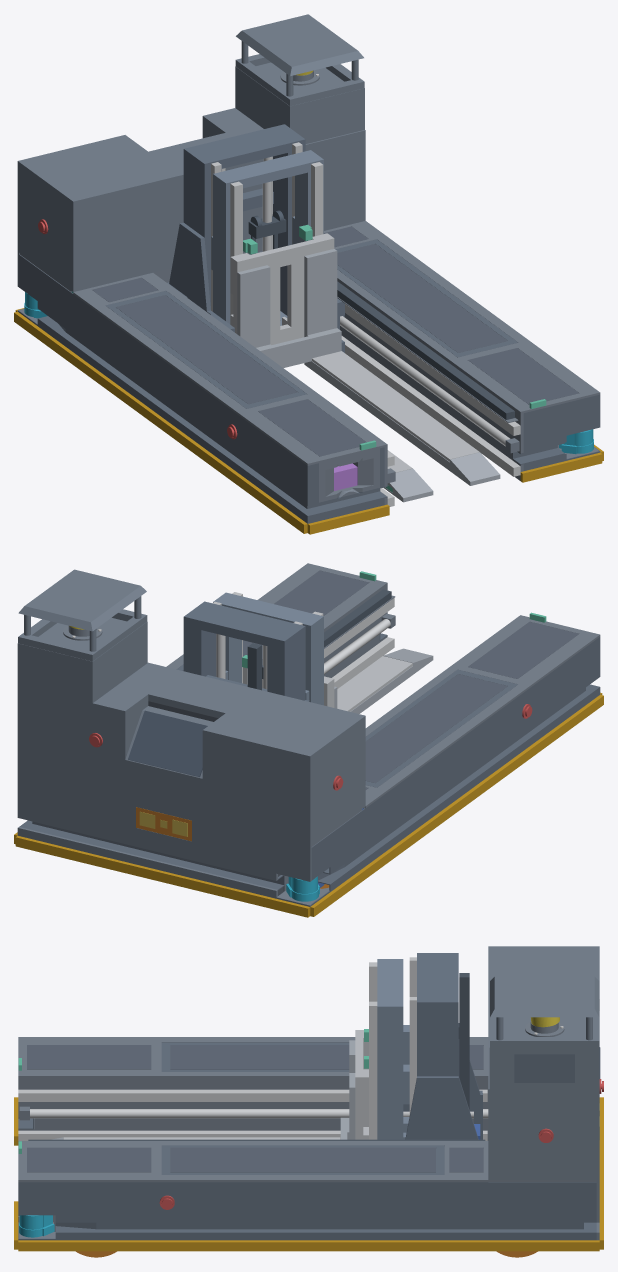
The model's file is hd30_1500kg_fork.glb.
The picture shows the model from 3 angles, top to bottom: view 1: azimuth 30°, elevation 25°; view 2: azimuth 150°, elevation 25°; view 3: azimuth 270°, elevation 25°; orthographic projection.
Parts seen in each view (by area): view 1: rear_tower_front_skin_4t, chassis_skin_R_up, pod_top_R, pod_friction_pad_M_R, pod_friction_pad_M_L, pod_top_L, tower_deck_R_6t, tower_upper_shroud_L, fork_tine_L, rear_upper_cowl_R, mast_fork_carriage, fork_weigh_cover_L (+35 smaller); view 2: rear_backplate_up_10t, chassis_skin_R_up, tower_upper_shroud_L, tower_deck_R_6t, pod_friction_pad_M_R, pod_top_R, rear_upper_cowl_R, tower_armor_roof_8t, bumper_side_R, rear_hmi_10in, bumper_rear, pod_friction_pad_F_R (+30 smaller); view 3: chassis_skin_L_up, pod_inner_wall_R_12t, rear_upper_cowl_L, pod_top_L, bumper_side_L, pod_friction_pad_M_L, pod_top_R, tower_armor_roof_8t, pod_friction_pad_M_R, chassis_skin_L_low, reach_rail_HGR35_up_R, tower_upper_shroud_L (+31 smaller).
Boxes of the visible parts, left/top/right/bottom form: rear_tower_front_skin_4t: left=74, top=132, right=364, bottom=291; chassis_skin_R_up: left=19, top=254, right=307, bottom=504; pod_top_R: left=73, top=273, right=387, bottom=465; pod_friction_pad_M_R: left=116, top=295, right=297, bottom=404; pod_friction_pad_M_L: left=337, top=244, right=507, bottom=352; pod_top_L: left=324, top=221, right=600, bottom=413; tower_deck_R_6t: left=17, top=135, right=180, bottom=202; tower_upper_shroud_L: left=235, top=62, right=364, bottom=143; fork_tine_L: left=304, top=249, right=500, bottom=485; rear_upper_cowl_R: left=19, top=164, right=73, bottom=291; mast_fork_carriage: left=230, top=233, right=334, bottom=344; fork_weigh_cover_L: left=312, top=351, right=479, bottom=461; rear_backplate_up_10t: left=17, top=686, right=311, bottom=881; chassis_skin_R_up: left=311, top=637, right=599, bottom=880; tower_upper_shroud_L: left=17, top=617, right=147, bottom=703; tower_deck_R_6t: left=202, top=689, right=365, bottom=757; pod_friction_pad_M_R: left=365, top=674, right=507, bottom=782; pod_top_R: left=365, top=615, right=600, bottom=808; rear_upper_cowl_R: left=311, top=717, right=365, bottom=845; tower_armor_roof_8t: left=18, top=569, right=146, bottom=631; bumper_side_R: left=310, top=694, right=603, bottom=916; rear_hmi_10in: left=128, top=710, right=207, bottom=777; bumper_rear: left=15, top=836, right=310, bottom=917; pod_friction_pad_F_R: left=468, top=621, right=578, bottom=678; chassis_skin_L_up: left=19, top=1182, right=596, bottom=1221; pod_inner_wall_R_12t: left=18, top=1078, right=488, bottom=1140; rear_upper_cowl_L: left=488, top=1091, right=596, bottom=1179; pod_top_L: left=18, top=1141, right=488, bottom=1182; bumper_side_L: left=18, top=1240, right=599, bottom=1251; pod_friction_pad_M_L: left=170, top=1147, right=435, bottom=1172; pod_top_R: left=18, top=1037, right=488, bottom=1078; tower_armor_roof_8t: left=490, top=976, right=599, bottom=1017; pod_friction_pad_M_R: left=170, top=1045, right=349, bottom=1069; chassis_skin_L_low: left=19, top=1233, right=596, bottom=1240; reach_rail_HGR35_up_R: left=18, top=1089, right=487, bottom=1101; tower_upper_shroud_L: left=489, top=1011, right=599, bottom=1089.
Bounding box in the file's own units: 1.2 × 0.995 × 2.04.
